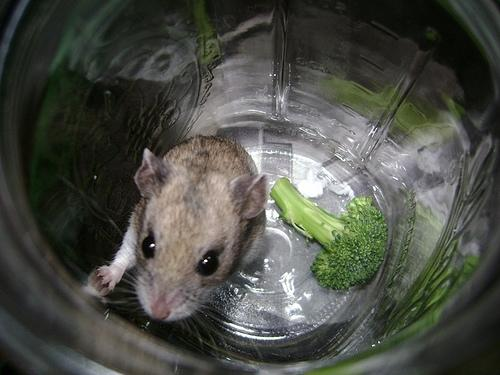broccoli: (270, 177, 388, 289)
